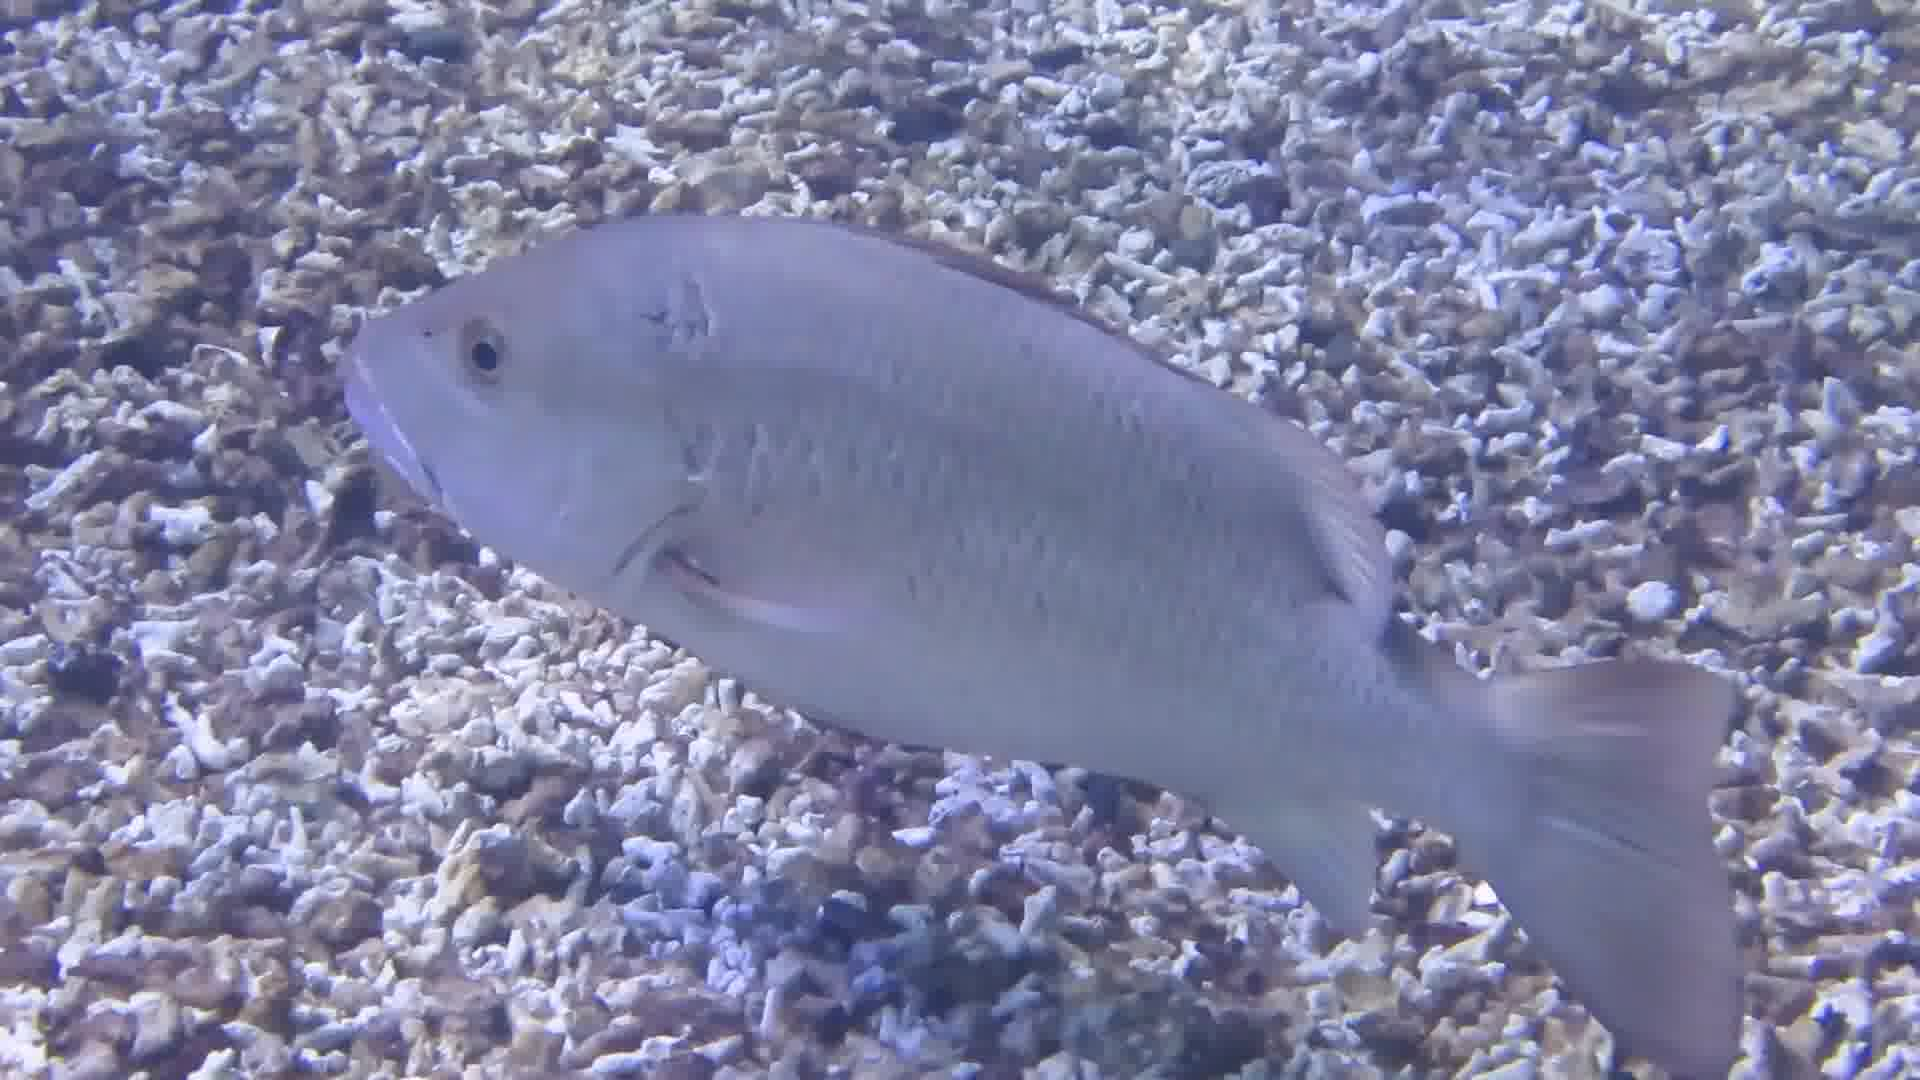Lutjanus argentimaculatus: (332, 218, 1745, 981)
